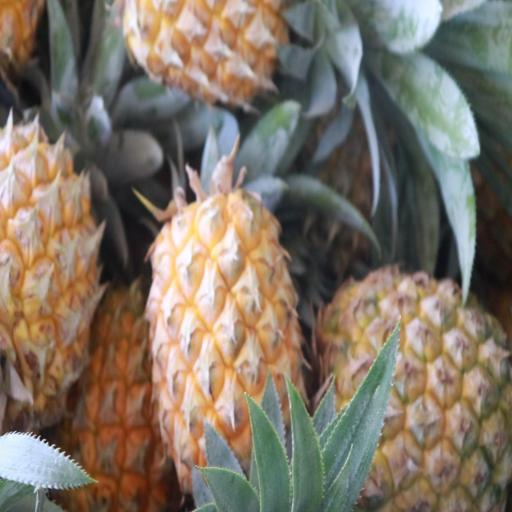Pineapple - v8 v1: (150, 191, 301, 500), (322, 271, 512, 510), (0, 121, 102, 404), (59, 281, 174, 511)
